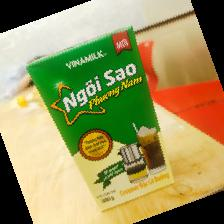NSPN_Hop: (25, 26, 175, 214)
